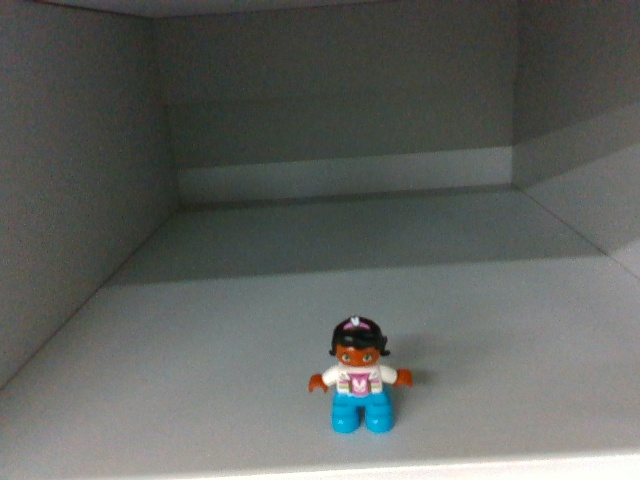people: (308, 316, 415, 434)
